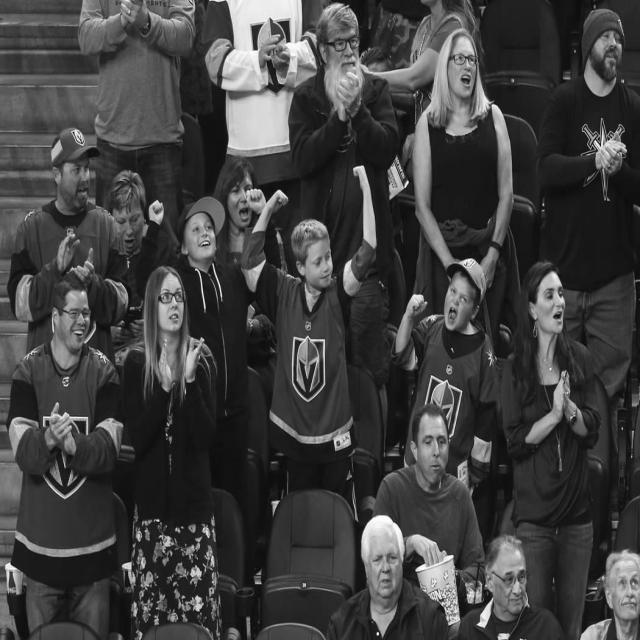person: (3, 272, 133, 640), (494, 261, 610, 638), (537, 4, 640, 424), (112, 262, 224, 640), (249, 214, 357, 528), (77, 0, 202, 242), (5, 128, 132, 358), (419, 25, 512, 305), (292, 4, 391, 260), (374, 403, 485, 616), (318, 518, 452, 640), (436, 537, 575, 640), (211, 157, 292, 278), (382, 0, 458, 96), (568, 551, 640, 640), (103, 179, 152, 251), (172, 183, 217, 260)
